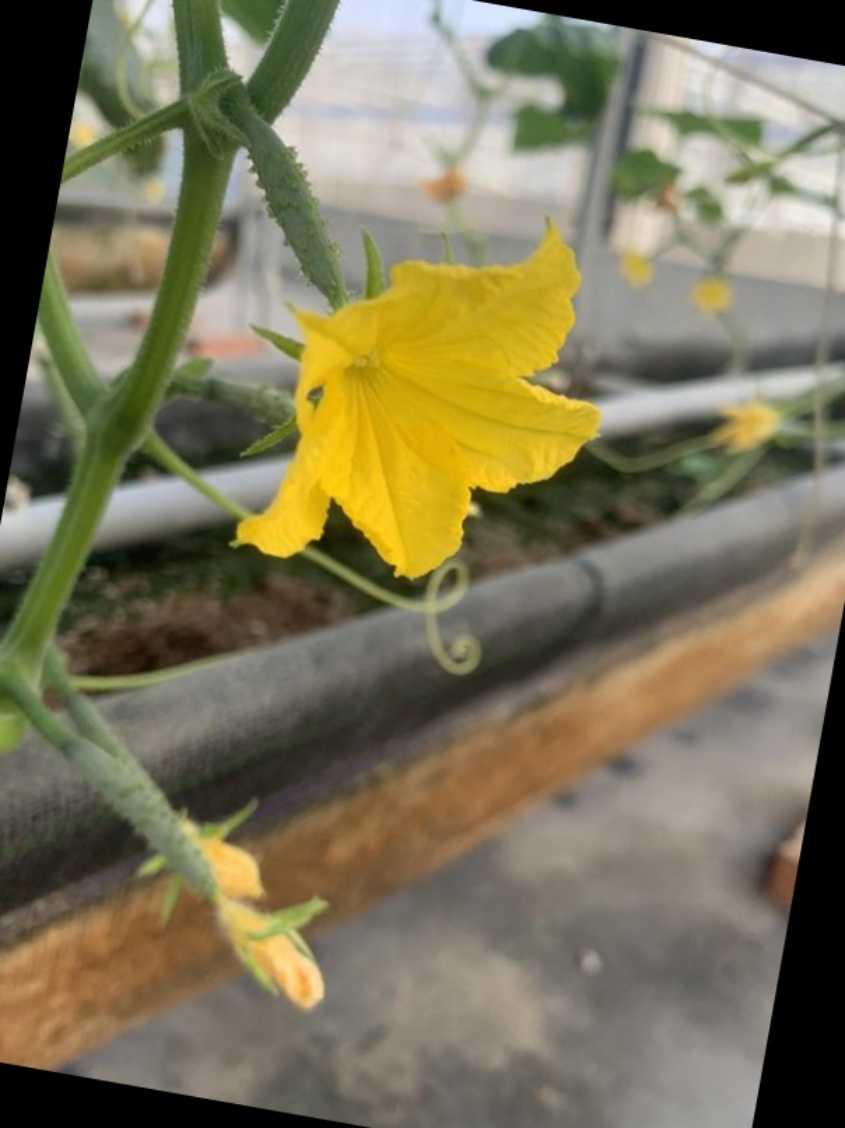flowering: (131, 116, 615, 596)
